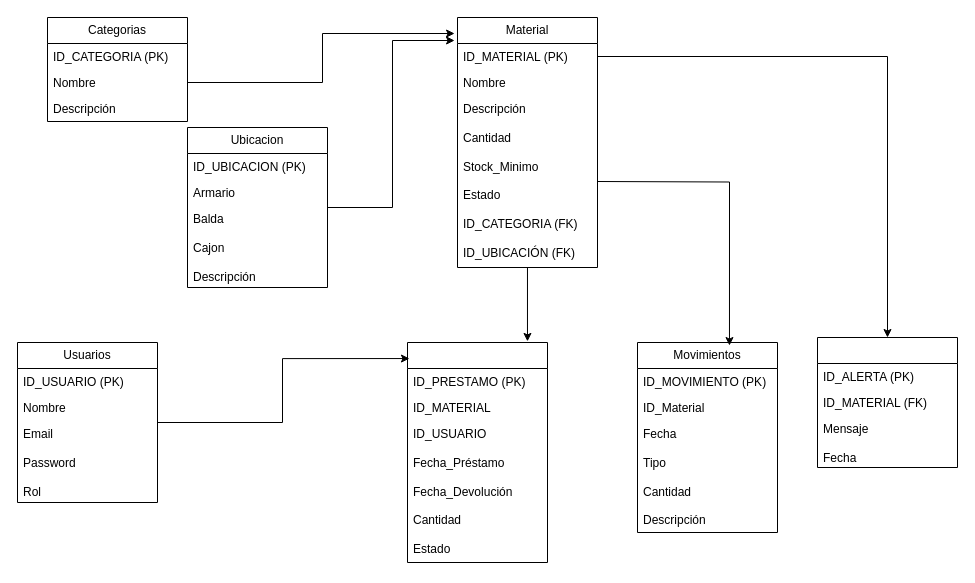
Some shapes in this 975 by 583 pixel diagram are drawn without their labels. The box of each missing label's shape, as (x1, y1, x2, y2) in pixels:
Alertas_Stock: (816, 336, 958, 468)
Prestamos: (406, 342, 548, 562)
